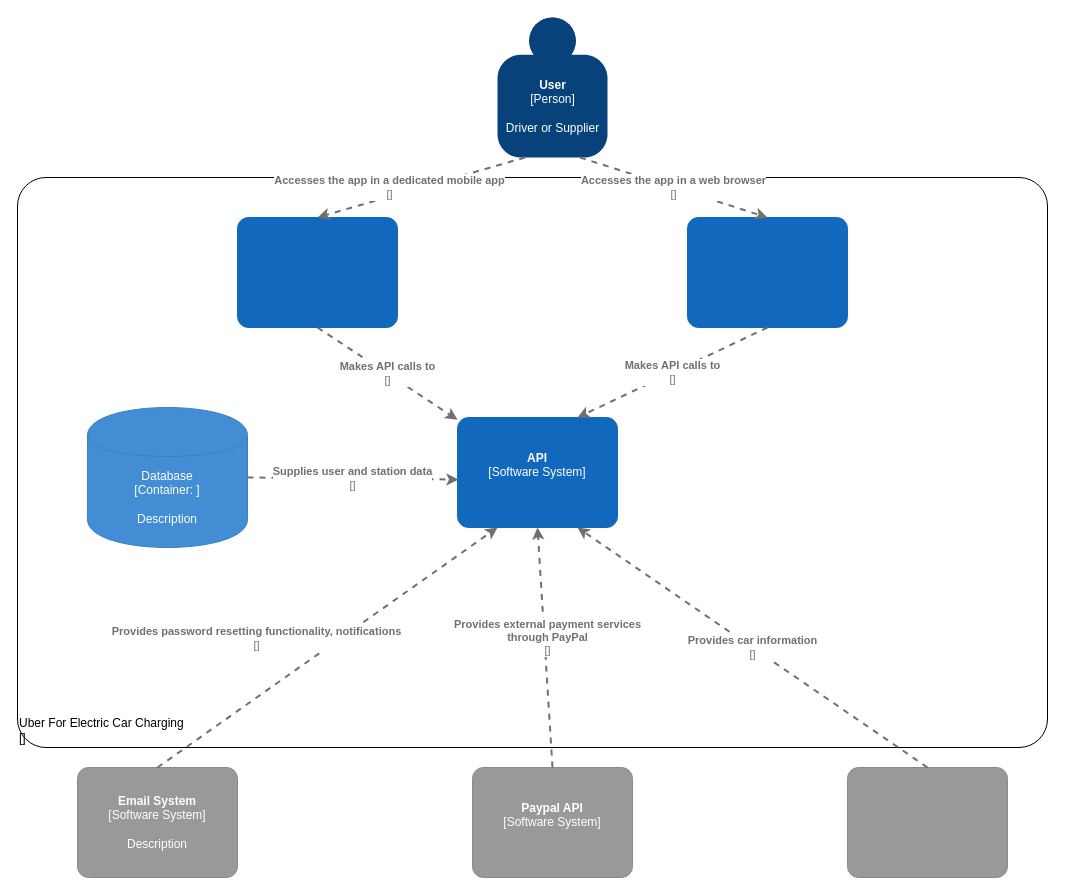
The diagram is 1065 pixels wide and 895 high, and some of its shapes have lost their labels. The centre of each missing label's shape, as x and y in pixels:
Mobile App [Software System]: (x=317, y=272)
Tesla API [Software System]: (x=927, y=822)
Web Application [Software System]: (x=767, y=272)
